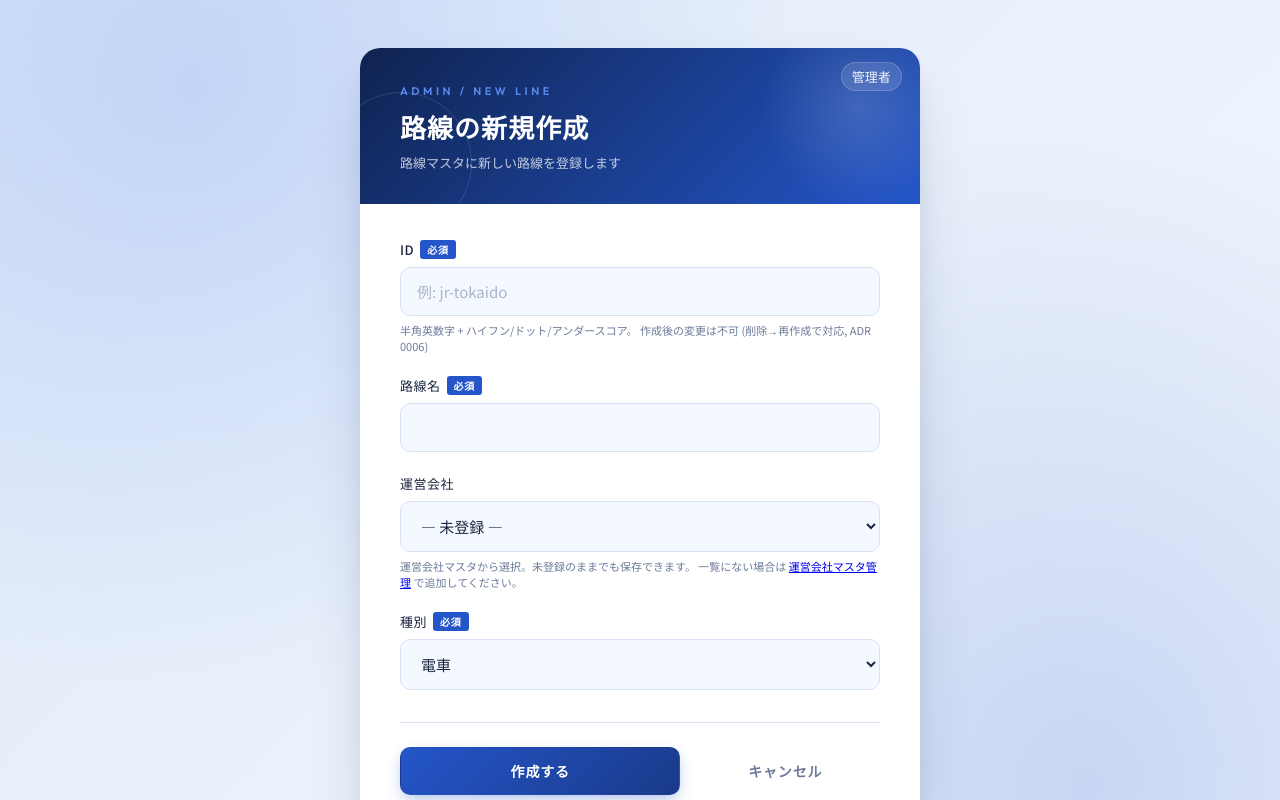
Test case: AdminLineNew (US-025 新規作成) › ID 形式違反でフィールドエラー
The width and height of the screenshot is (1280, 800).
In the field labelled "ID 必須": (640, 292) [400,267,880,316], type "has space"
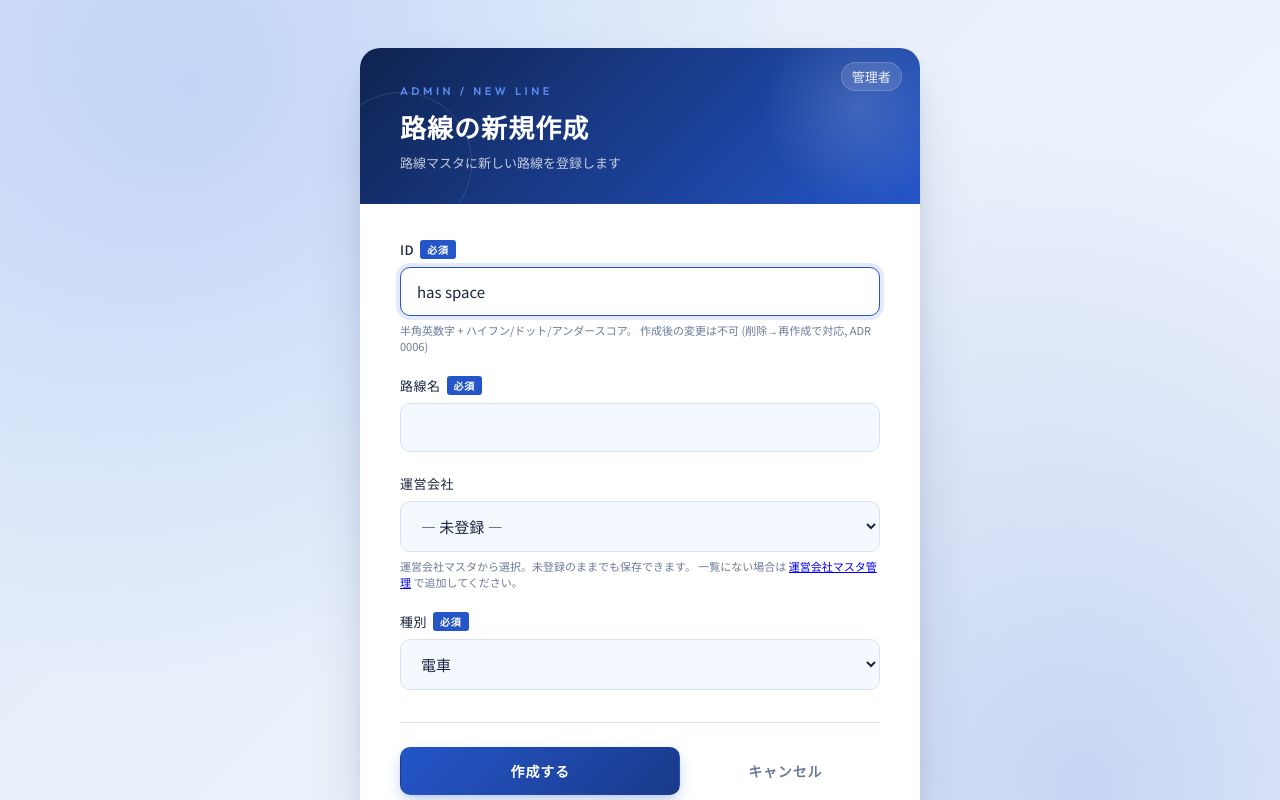
In the field labelled "路線名 必須": (640, 428) [400,403,880,452], type "X"
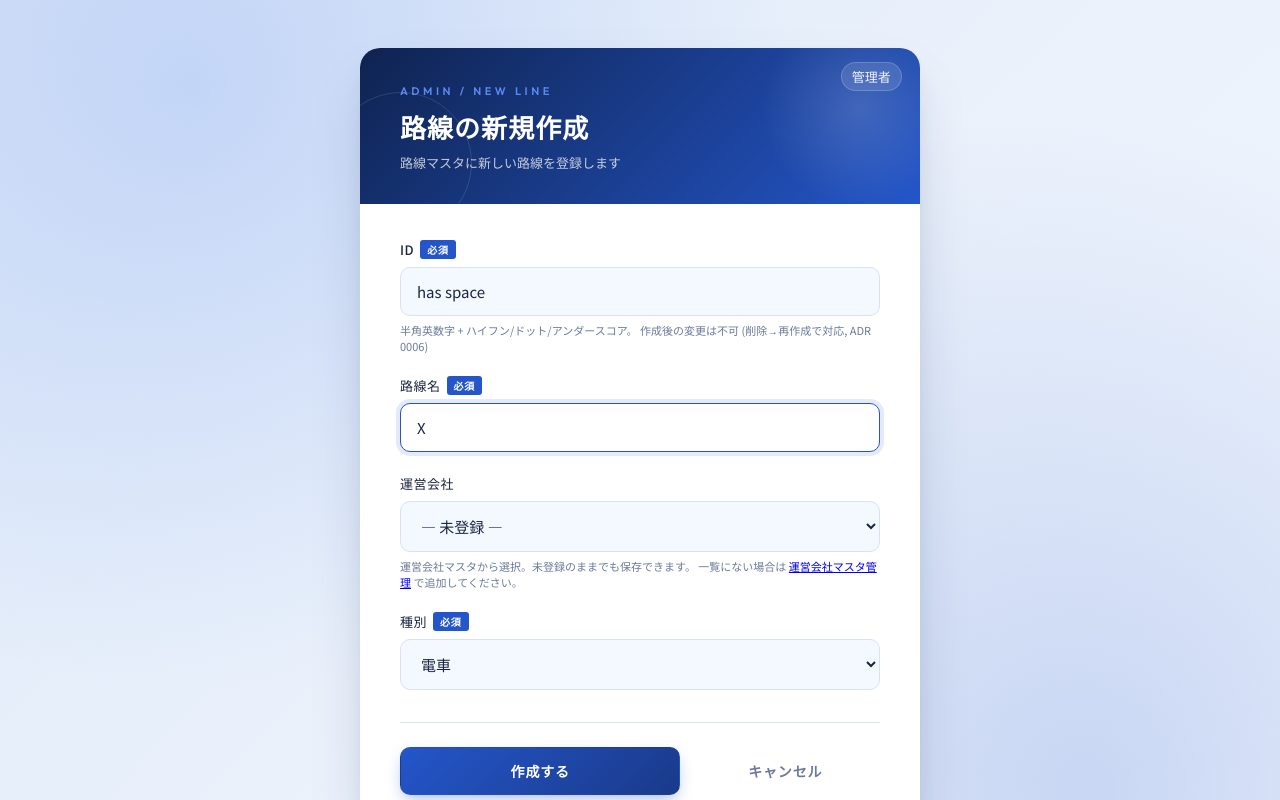
Click the button "作成する": (540, 771) [400,747,680,795]
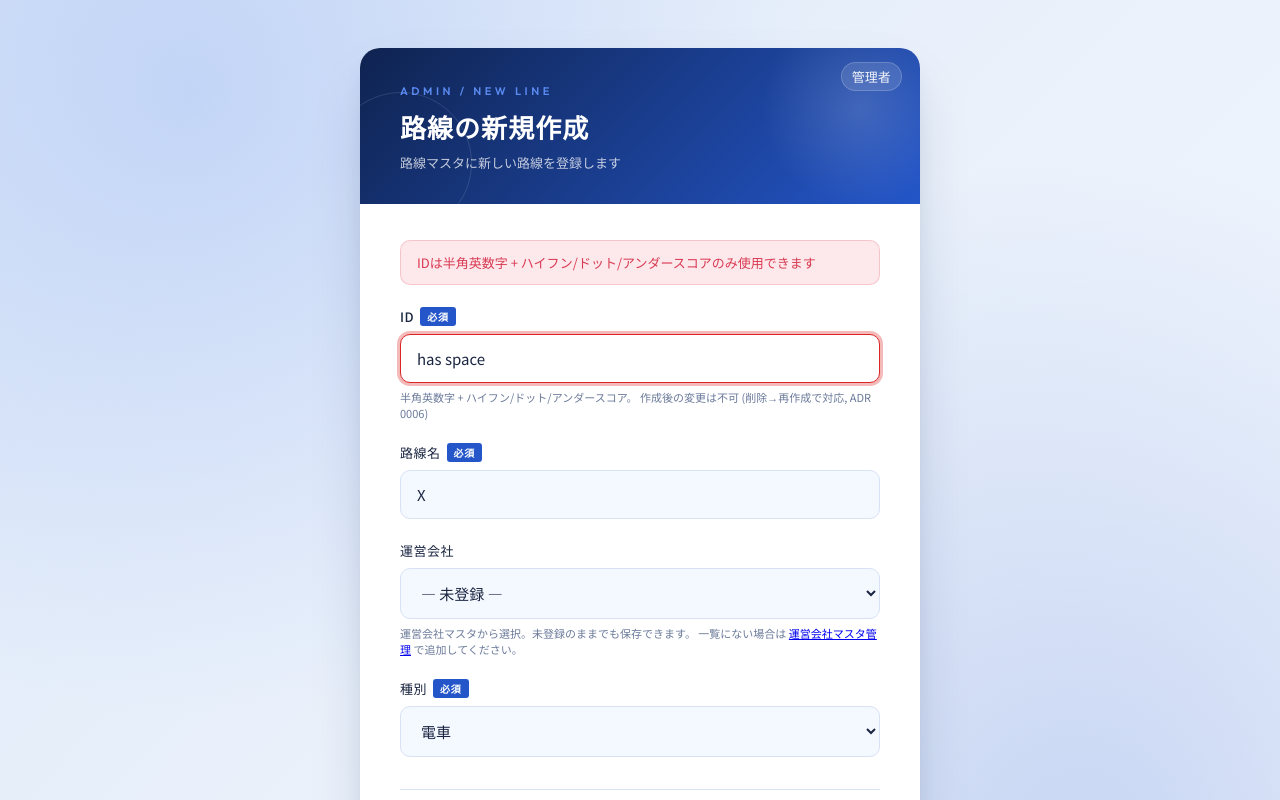
Result: the text "IDは半角英数字 + ハイフン/ドット/アンダースコアのみ使用できます" is shown at [400,240,880,285]
